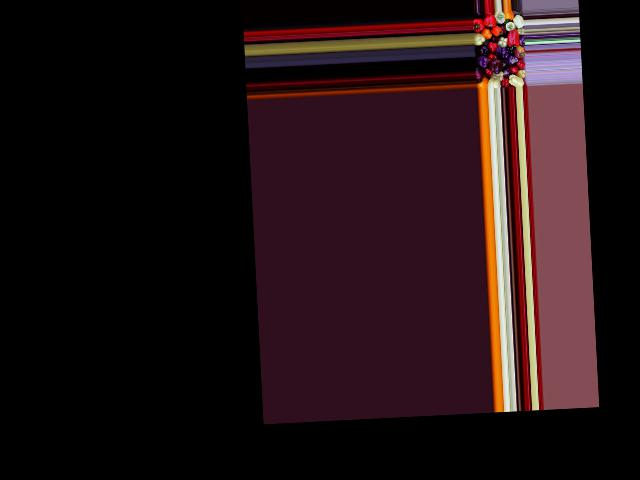bell_pepper: (494, 11, 504, 25)
